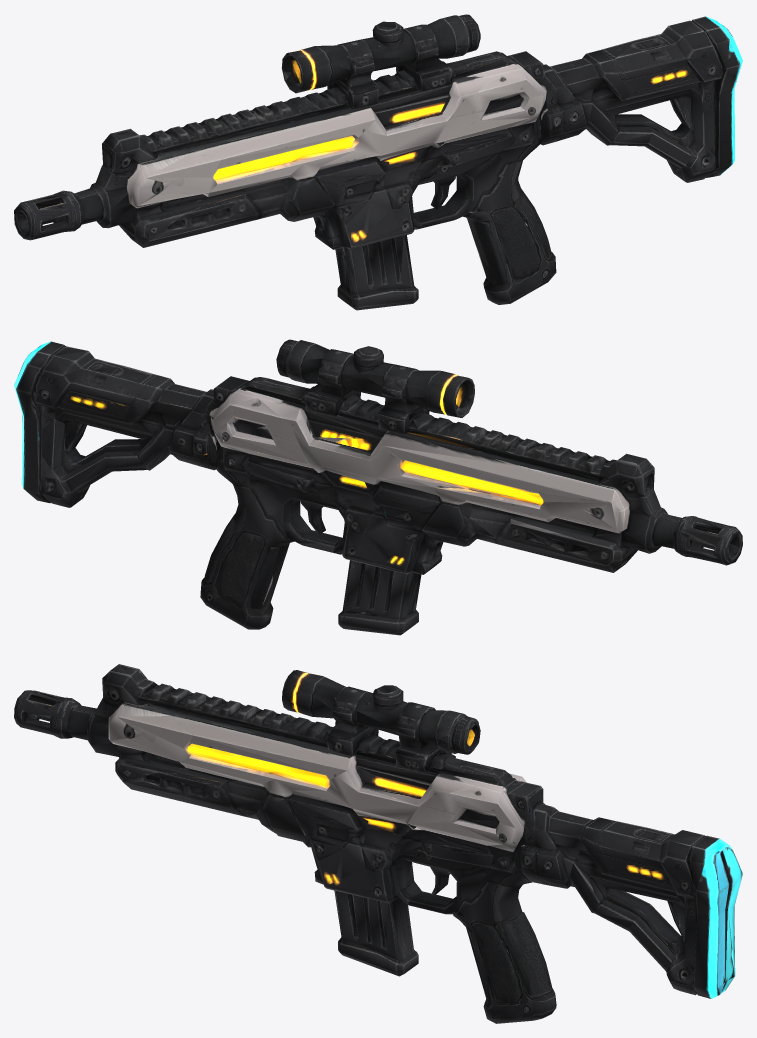
3 views of the same model, one above another, from view 1: azimuth 30°, elevation 25°; view 2: azimuth 150°, elevation 25°; view 3: azimuth 330°, elevation 25° (orthographic).
Visible parts, largest first — view 1: AR_LOD2; view 2: AR_LOD2; view 3: AR_LOD2.
Boxes of the visible parts, x1,y1,x2,y2 form: AR_LOD2: (14, 14, 742, 310); AR_LOD2: (14, 339, 742, 635); AR_LOD2: (14, 664, 742, 1023).
Size of the model in its own units: 94.99 by 38.94 by 7.3.
